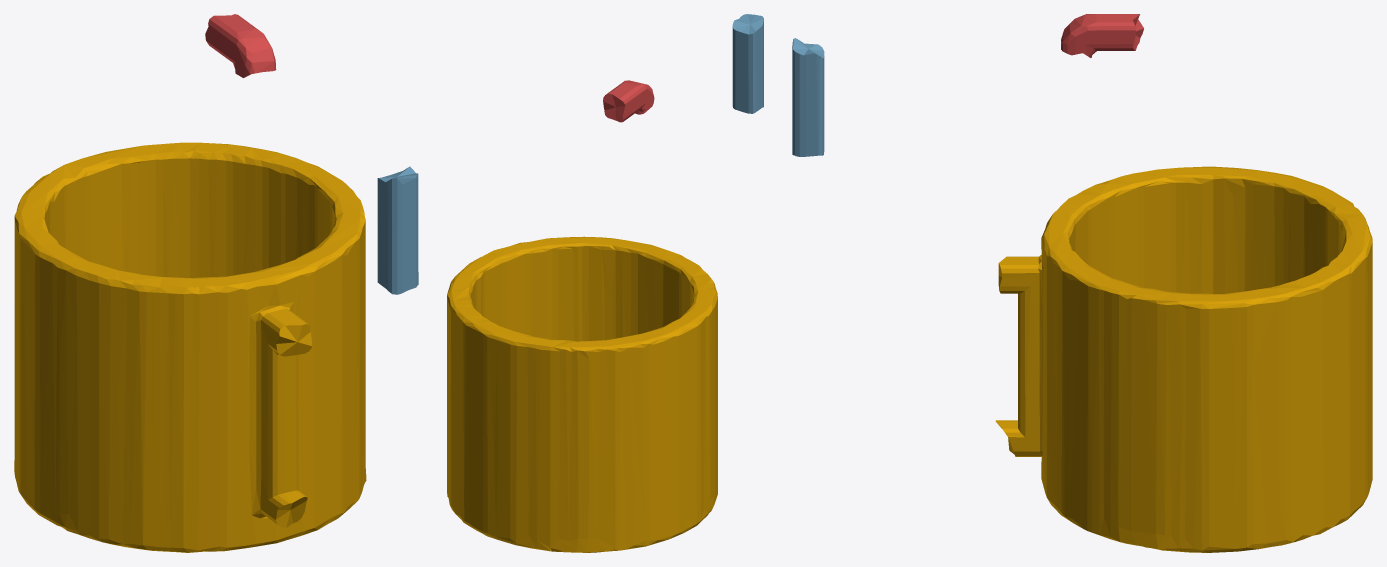
Rendered from fractured_42_4pcs_transformed.glb.
3 renders of one model, left to right at view 1: azimuth 30°, elevation 25°; view 2: azimuth 150°, elevation 25°; view 3: azimuth 270°, elevation 25°, orthographic. The views are drawn at different scales.
Visible parts, largest first — view 1: piece_0.obj, piece_2.obj, piece_1.obj; view 2: piece_0.obj, piece_2.obj, piece_1.obj; view 3: piece_0.obj, piece_2.obj, piece_1.obj.
Boxes of the visible parts, x1=… form: piece_0.obj: x1=14, y1=142, x2=366, y2=552; piece_2.obj: x1=377, y1=166, x2=418, y2=294; piece_1.obj: x1=205, y1=14, x2=276, y2=77; piece_0.obj: x1=447, y1=236, x2=717, y2=552; piece_2.obj: x1=732, y1=14, x2=763, y2=113; piece_1.obj: x1=603, y1=80, x2=654, y2=122; piece_0.obj: x1=995, y1=166, x2=1372, y2=552; piece_2.obj: x1=792, y1=38, x2=824, y2=156; piece_1.obj: x1=1061, y1=14, x2=1143, y2=57.
Size of the model in its own units: 0.7417 by 1.15 by 1.3.
